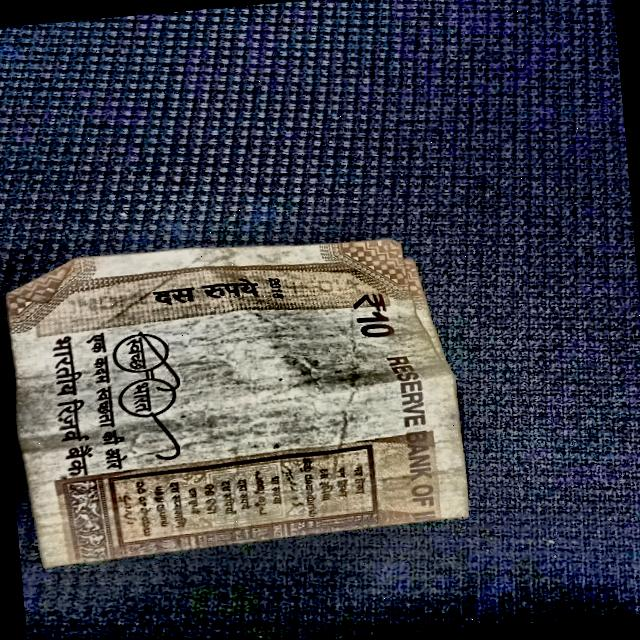-10-: (0, 143, 511, 603)
